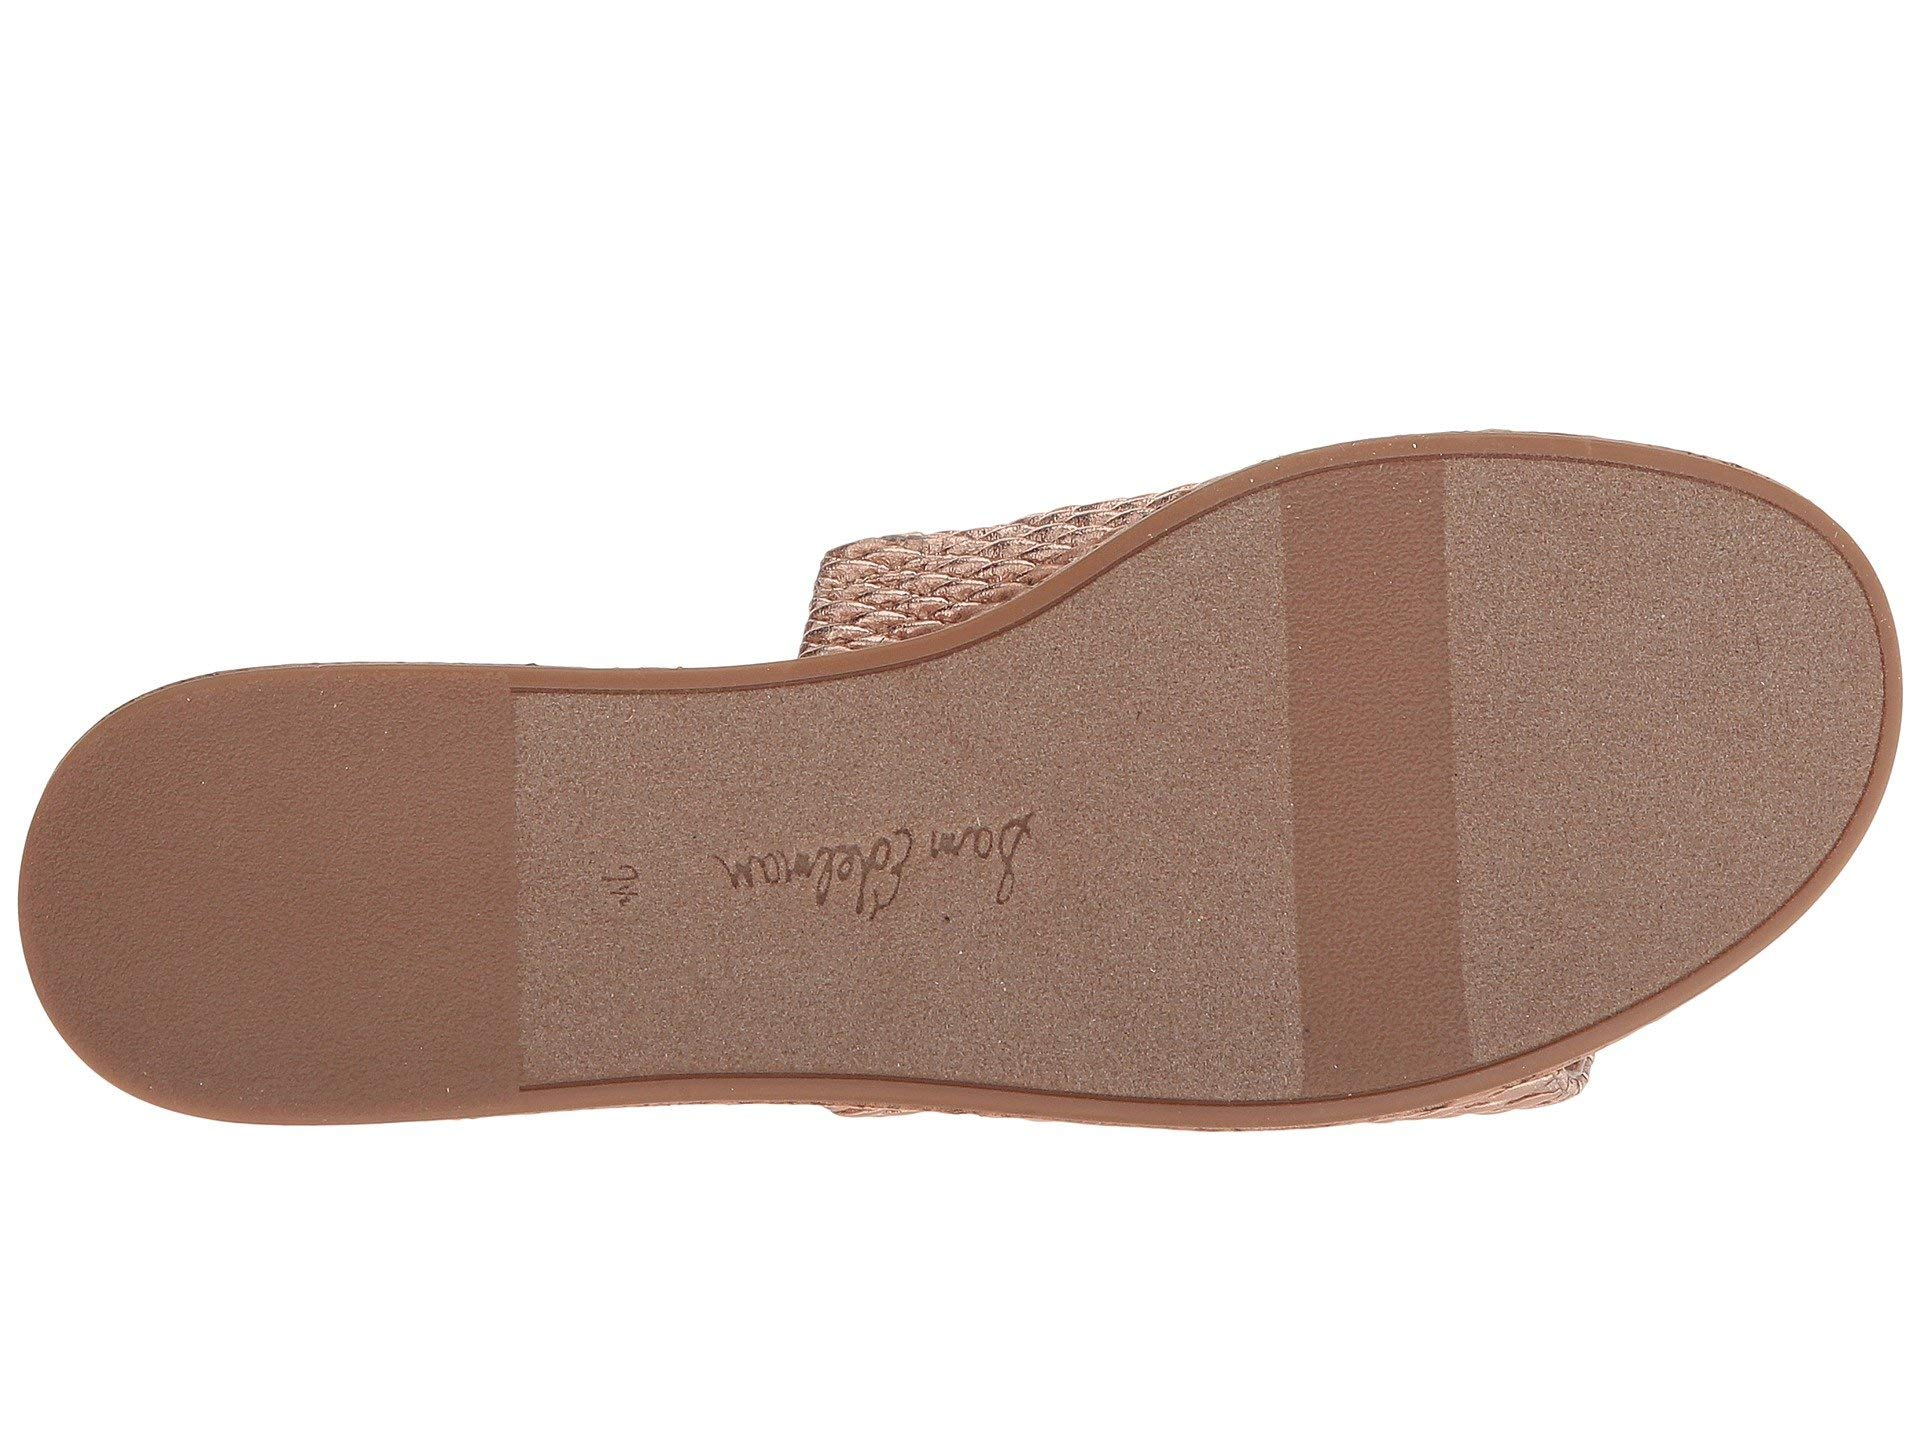circle: (584, 815, 1098, 945)
quad: (1267, 448, 1488, 1092)
text: (584, 815, 1098, 945)
